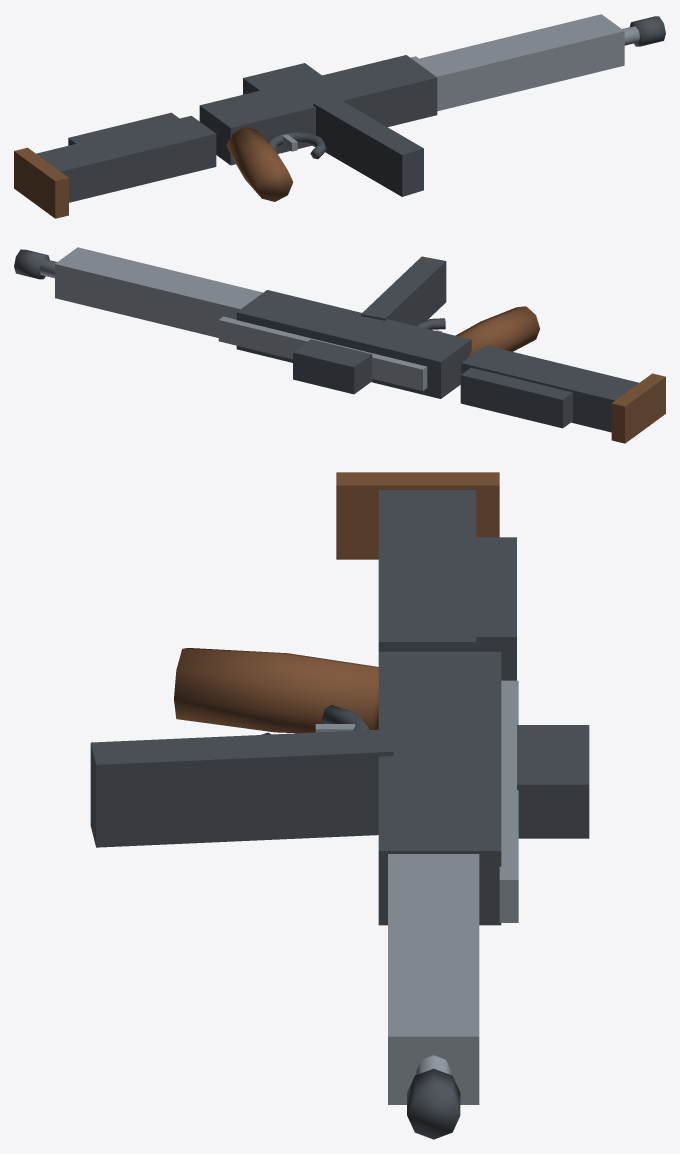
Rendered from weapon_rifle.glb.
The picture shows the model from 3 angles, top to bottom: view 1: azimuth 30°, elevation 25°; view 2: azimuth 150°, elevation 25°; view 3: azimuth 270°, elevation 25°; orthographic projection. The views are drawn at different scales.
Parts seen in each view (by area): view 1: receiver, handguard, stock, mag, grip, butt, optic, comb, brake, guard; view 2: handguard, receiver, stock, comb, rail, mag, optic, butt, grip, brake; view 3: mag, receiver, handguard, stock, grip, optic, butt, comb, rail, brake.
Part boxes in pixels (left/top/right/bottom): receiver: left=199, top=55, right=437, bottom=165; handguard: left=414, top=14, right=624, bottom=111; stock: left=36, top=115, right=216, bottom=202; mag: left=313, top=97, right=423, bottom=196; grip: left=226, top=126, right=293, bottom=201; butt: left=14, top=147, right=68, bottom=218; optic: left=243, top=63, right=321, bottom=94; comb: left=68, top=112, right=179, bottom=145; brake: left=630, top=16, right=665, bottom=46; guard: left=268, top=131, right=326, bottom=159; handguard: left=55, top=247, right=262, bottom=337; receiver: left=236, top=290, right=471, bottom=398; stock: left=461, top=345, right=639, bottom=432; comb: left=460, top=367, right=572, bottom=428; rail: left=218, top=316, right=427, bottom=390; mag: left=361, top=256, right=446, bottom=325; optic: left=293, top=339, right=372, bottom=394; butt: left=611, top=373, right=665, bottom=443; grip: left=456, top=306, right=539, bottom=356; brake: left=14, top=249, right=49, bottom=279; mag: left=90, top=729, right=393, bottom=847; receiver: left=378, top=651, right=501, bottom=925; handguard: left=388, top=854, right=479, bottom=1104; stock: left=378, top=490, right=476, bottom=651; grip: left=174, top=648, right=378, bottom=733; optic: left=517, top=725, right=589, bottom=838; butt: left=336, top=472, right=499, bottom=559; comb: left=476, top=537, right=516, bottom=680; rail: left=499, top=680, right=518, bottom=922; brake: left=407, top=1068, right=460, bottom=1139.
Bounding box in the file's own units: 0.912 × 0.058 × 0.3173.
